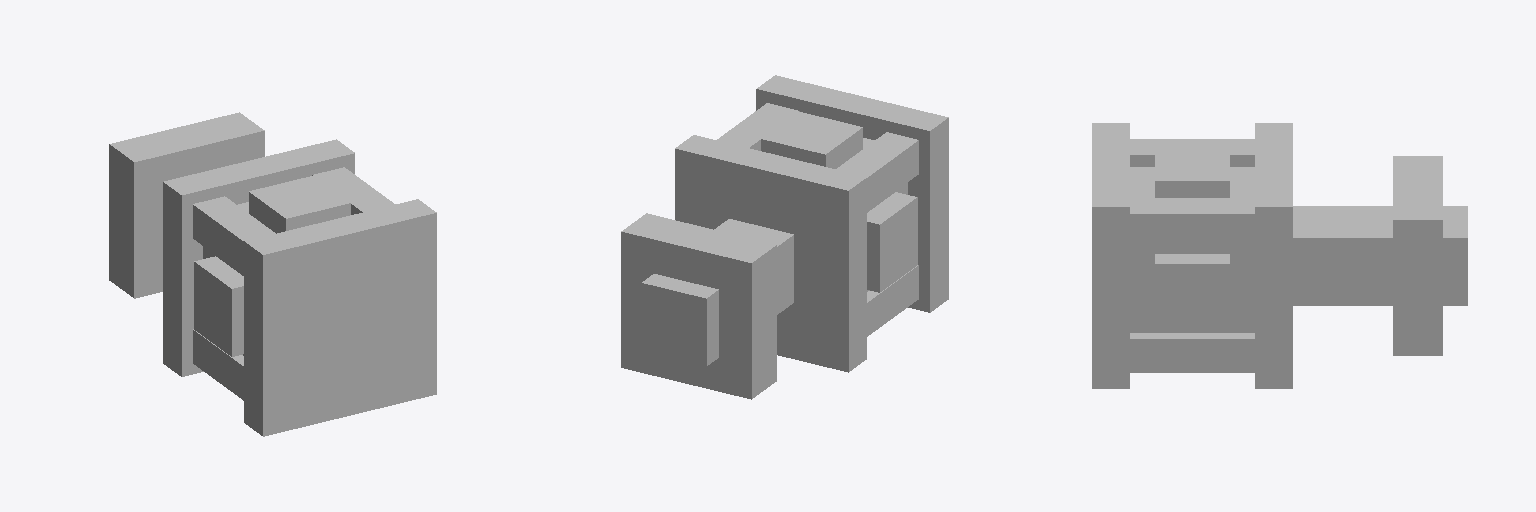
Rendered from teslacoil.obj.
3 renders of one model, left to right at view 1: azimuth 30°, elevation 25°; view 2: azimuth 150°, elevation 25°; view 3: azimuth 270°, elevation 25°, orthographic.
Visible parts, largest first — view 1: Cube; view 2: Cube; view 3: Cube.
Part boxes in pixels (bbox=[...]): Cube: bbox=[109, 112, 436, 436]; Cube: bbox=[621, 75, 948, 399]; Cube: bbox=[1092, 123, 1467, 388].
Bounding box in the file's own units: 1 × 1 × 1.88.